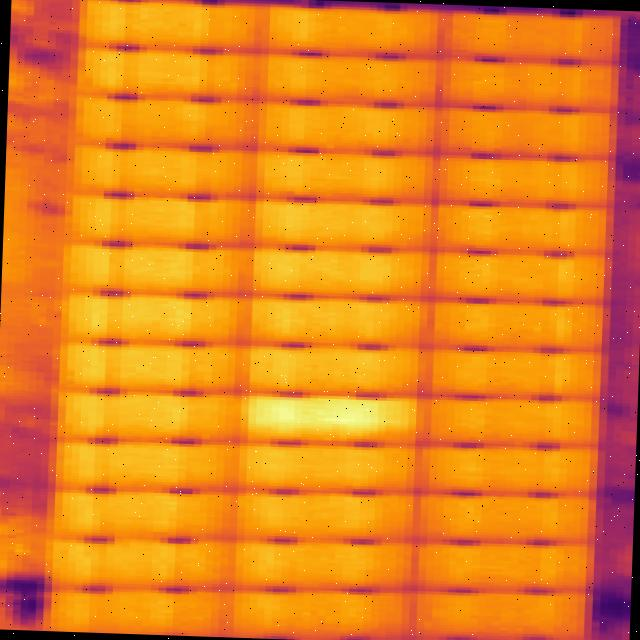Hotspot: (248, 396, 386, 428)
